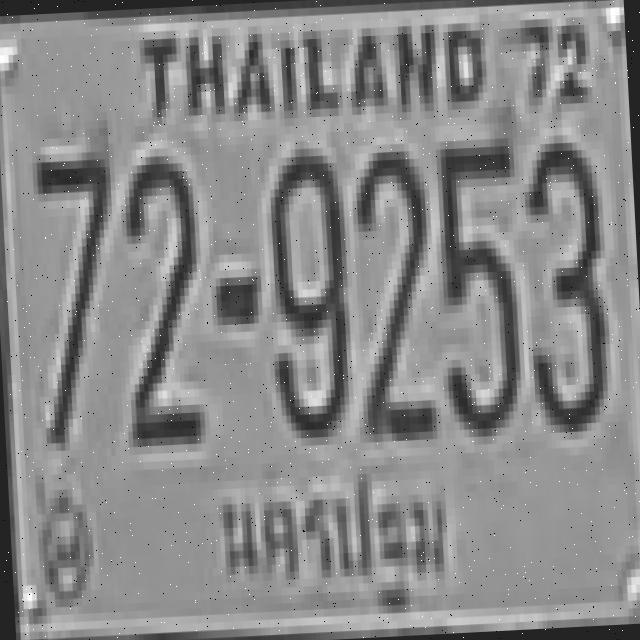2: (115, 148, 204, 440), (350, 143, 432, 434)
3: (517, 133, 609, 426)
5: (431, 130, 523, 430)
7: (31, 144, 120, 444)
9: (258, 140, 350, 432)
NakhonPathom: (198, 472, 456, 624)
